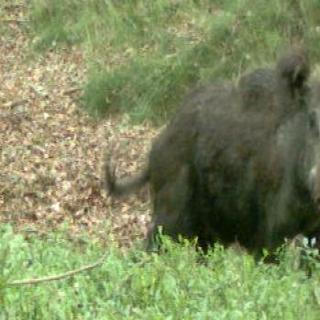Pig: (87, 34, 320, 267)
